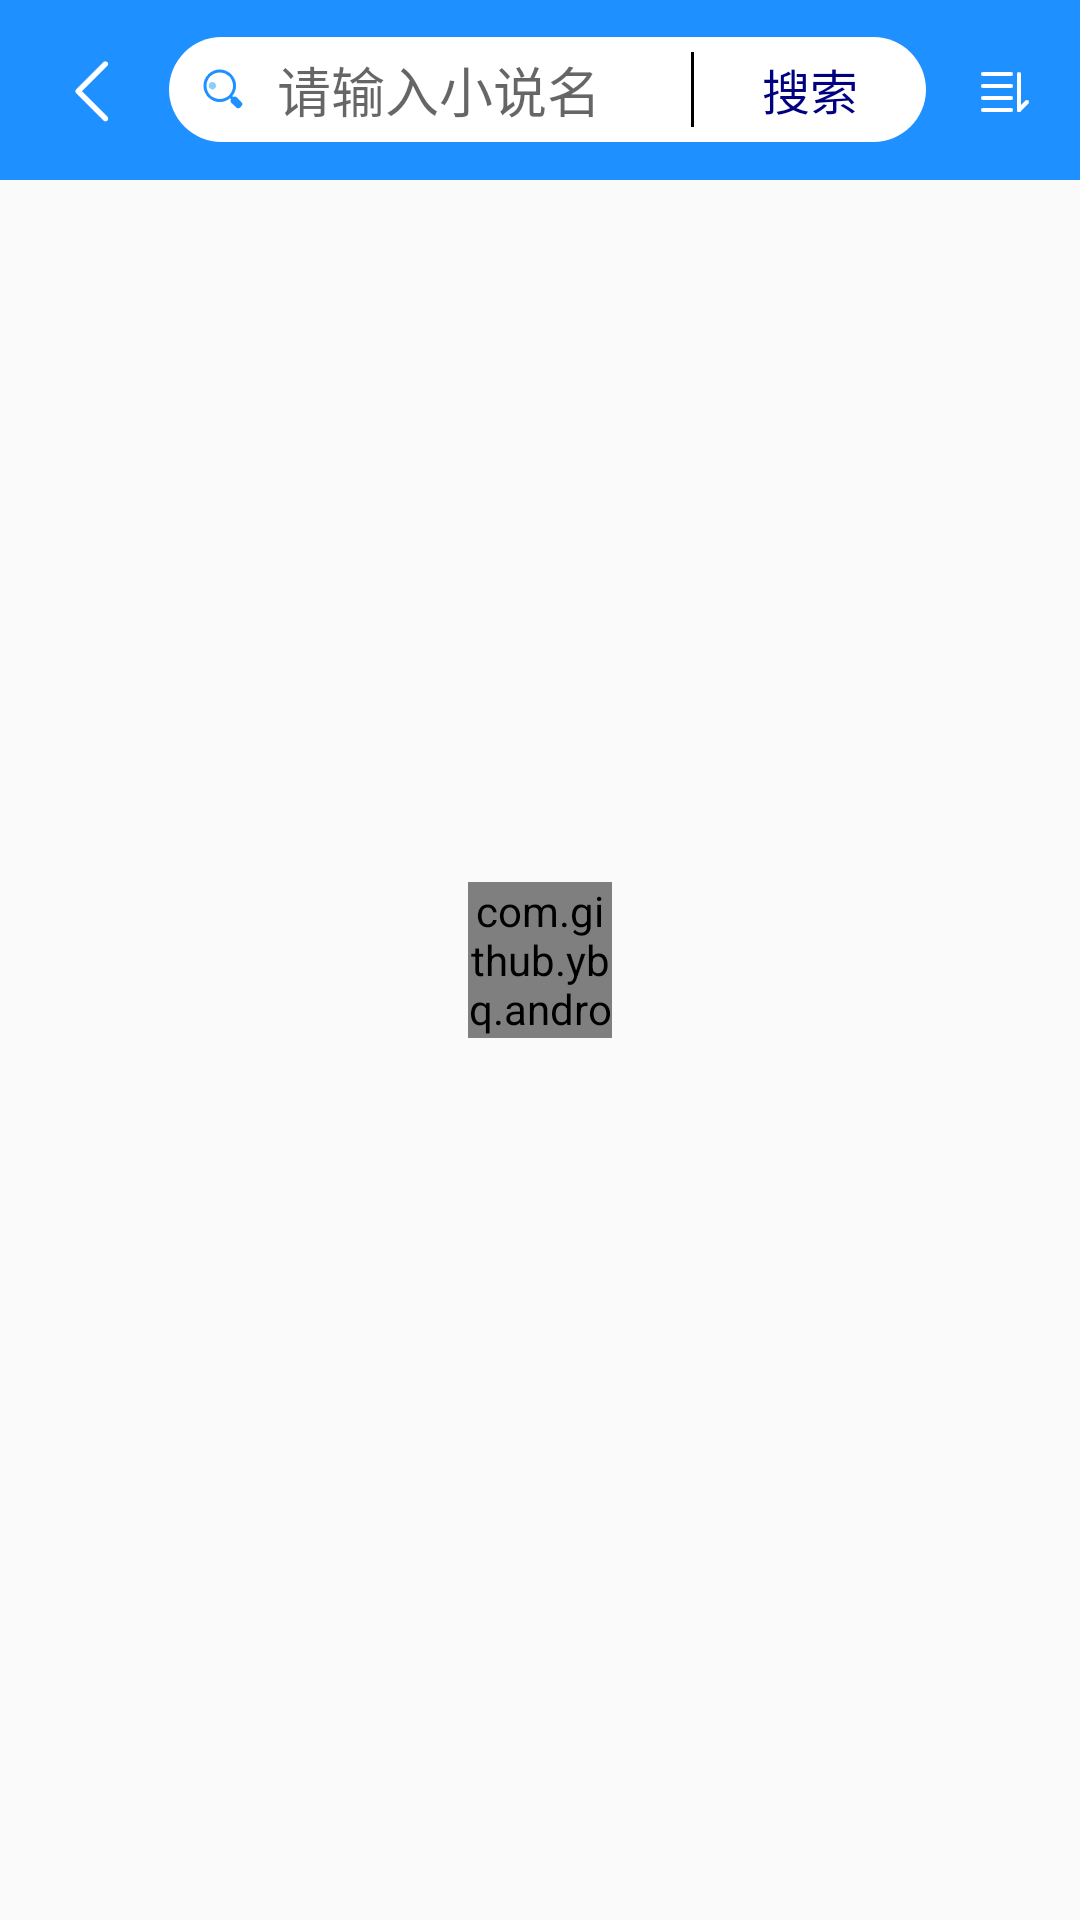

Locate icon controls on the screen. Image size 1080×1920, boxes as (x1, y1, x2, y2).
back: (75, 61, 109, 122)
search: (203, 69, 243, 109)
sort: (981, 72, 1029, 112)
